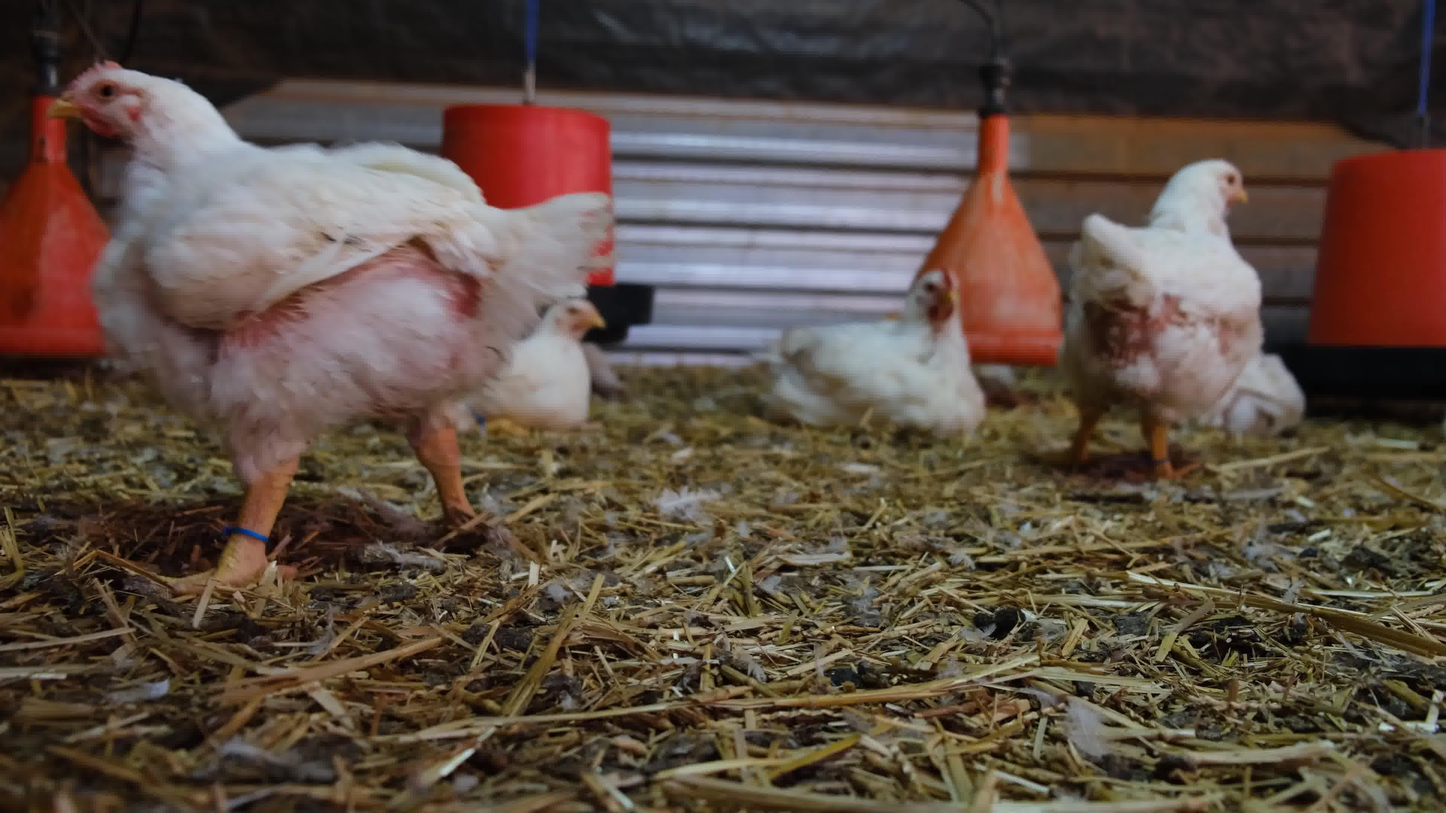AbNormal: (766, 269, 1005, 442), (508, 280, 650, 448), (1218, 327, 1324, 457)
Normal: (53, 62, 608, 602), (1058, 137, 1286, 474)
